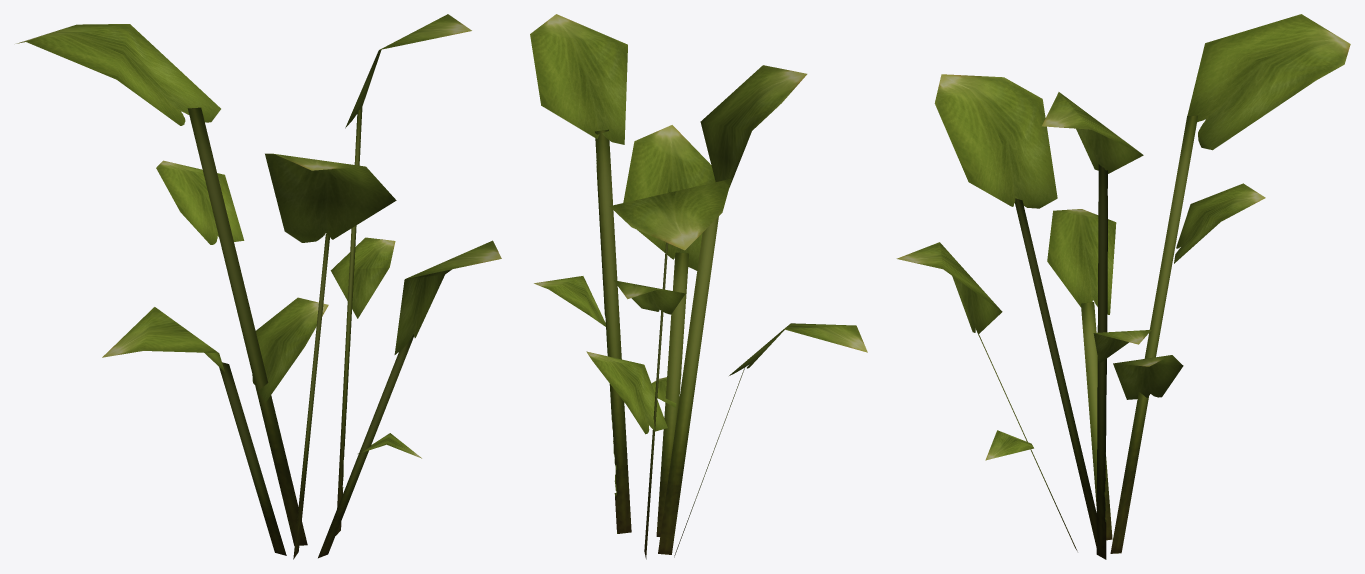
File: leafplant11_lod2.fbx
The picture shows the model from 3 angles, left to right: view 1: azimuth 30°, elevation 25°; view 2: azimuth 150°, elevation 25°; view 3: azimuth 270°, elevation 25°; orthographic projection. The views are drawn at different scales.
Parts seen in each view (by area): view 1: Mesh Object; view 2: Mesh Object; view 3: Mesh Object.
Part boxes in pixels (x1,y1,x2,y2): Mesh Object: (16, 14, 501, 559); Mesh Object: (530, 14, 867, 559); Mesh Object: (896, 14, 1350, 559).
Bounding box in the file's own units: 1.02 × 1.42 × 1.19.
